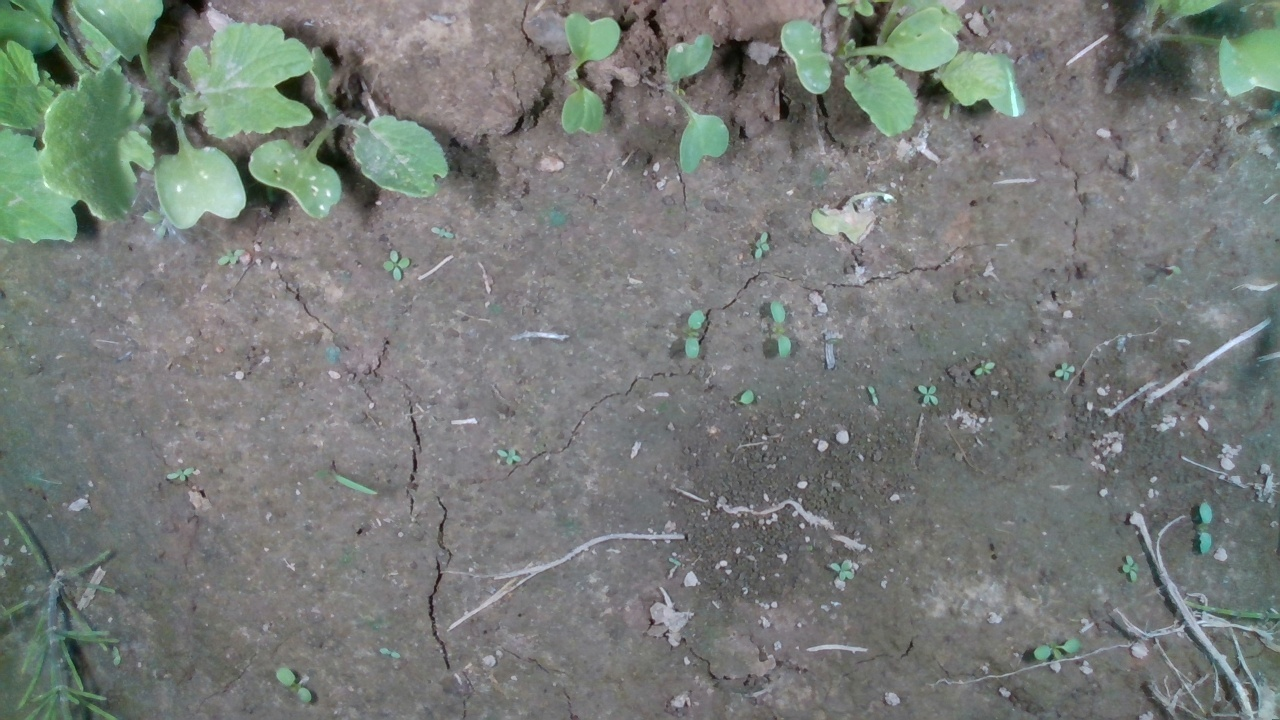weed: (275, 666, 312, 704), (769, 299, 792, 360), (1031, 636, 1079, 664), (683, 308, 706, 361), (380, 249, 411, 282), (1197, 499, 1213, 555), (828, 557, 855, 582), (162, 464, 194, 484), (751, 229, 771, 259), (1120, 554, 1140, 581), (494, 445, 522, 464), (917, 384, 941, 406), (1051, 360, 1076, 381), (973, 358, 996, 377), (429, 225, 455, 240)
